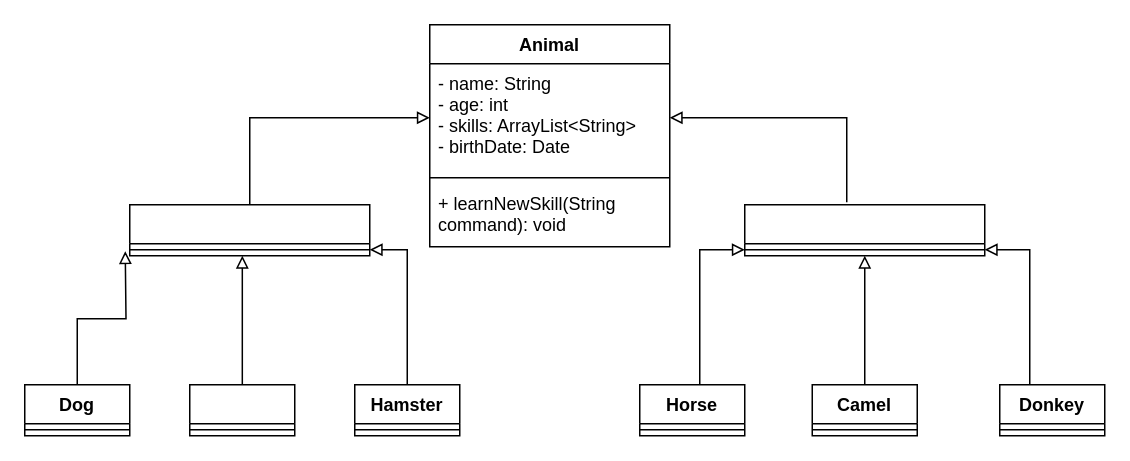
Some shapes in this 1130 by 461 pixel diagram are drawn without their labels. The shapes that lost their labels are listed below. From the top down, each one's box as (x1, y1, x2, y2) in pixels, then its label:
(128, 203, 370, 256): Pet
(743, 203, 985, 256): PackAnimal
(188, 383, 295, 436): Cat
